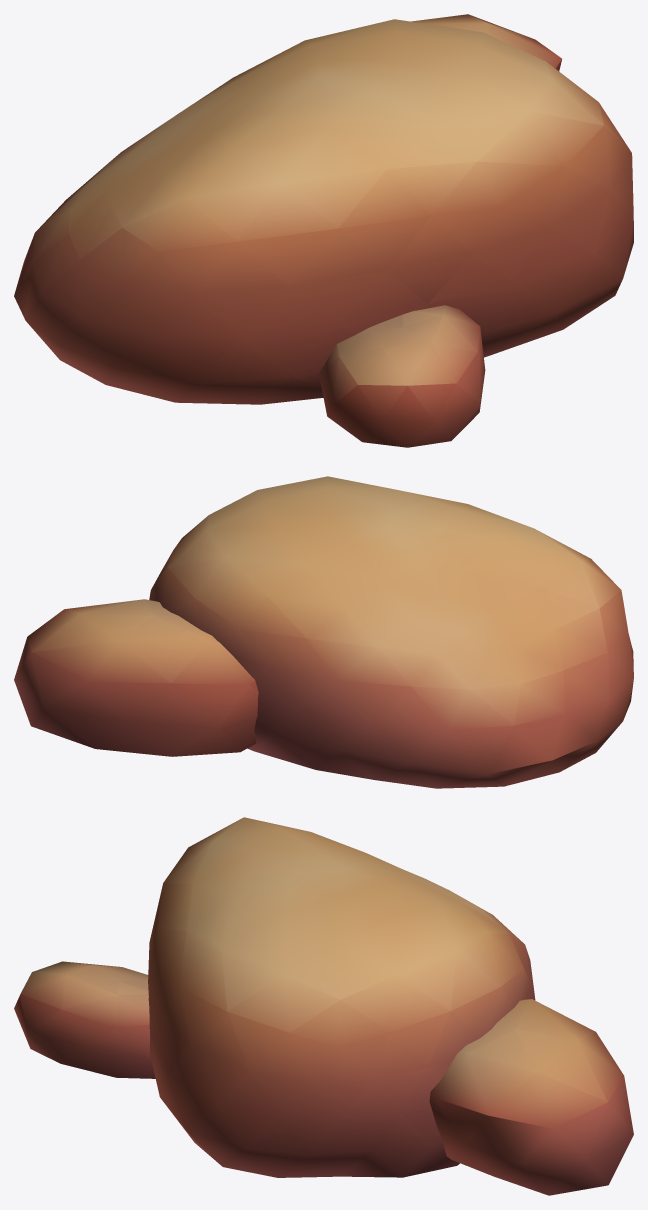
Rendered from amber_rock_river_a.glb.
3 renders of one model, top to bottom at view 1: azimuth 30°, elevation 25°; view 2: azimuth 150°, elevation 25°; view 3: azimuth 270°, elevation 25°, orthographic. The views are drawn at different scales.
Parts seen in each view (by area): view 1: amber_rock_river_a; view 2: amber_rock_river_a; view 3: amber_rock_river_a.
Boxes of the visible parts, left/top/right/bottom form: amber_rock_river_a: left=14, top=14, right=633, bottom=447; amber_rock_river_a: left=14, top=476, right=633, bottom=788; amber_rock_river_a: left=14, top=817, right=633, bottom=1195.
Size of the model in its own units: 1.79 by 0.6669 by 1.76.
